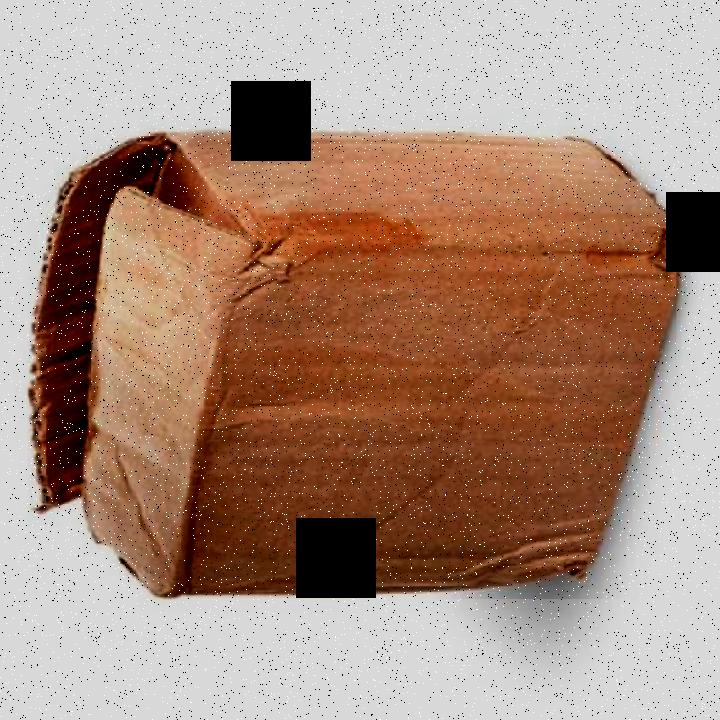box: (28, 114, 704, 599)
